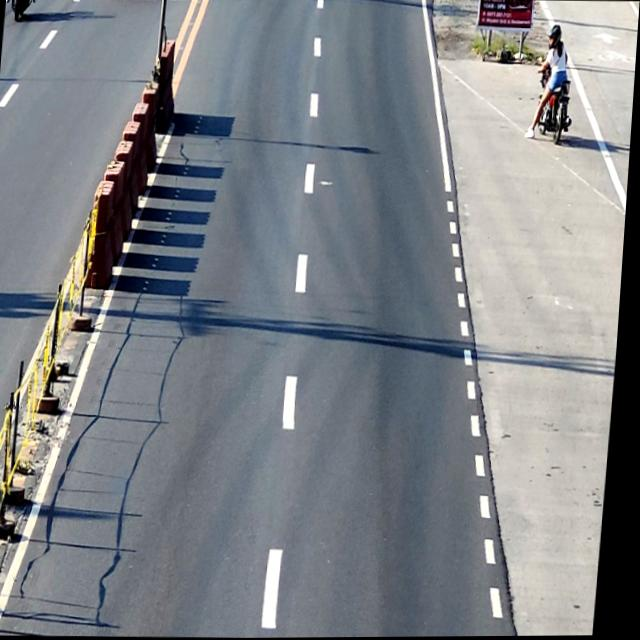Motorcycle: (530, 54, 575, 146)
